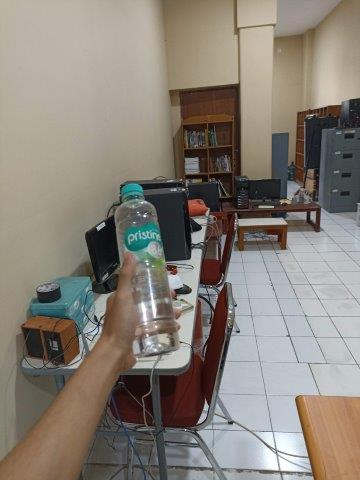botolplastik: (114, 183, 180, 358)
